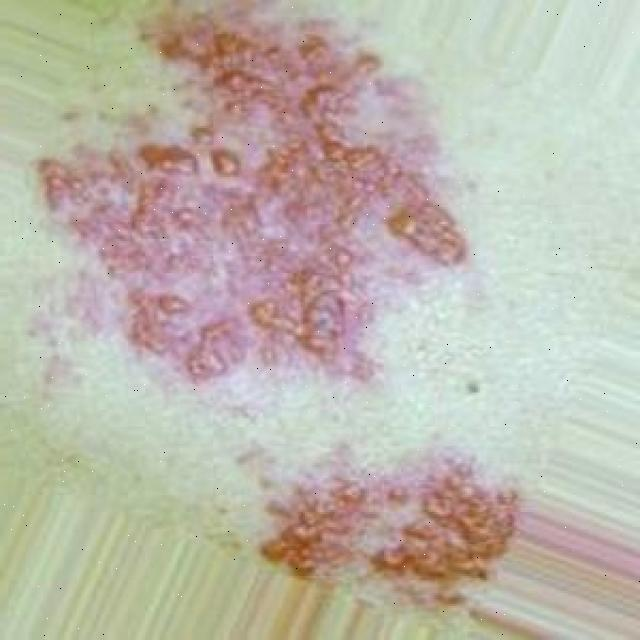Shingles: (36, 16, 468, 381), (258, 446, 518, 592)
